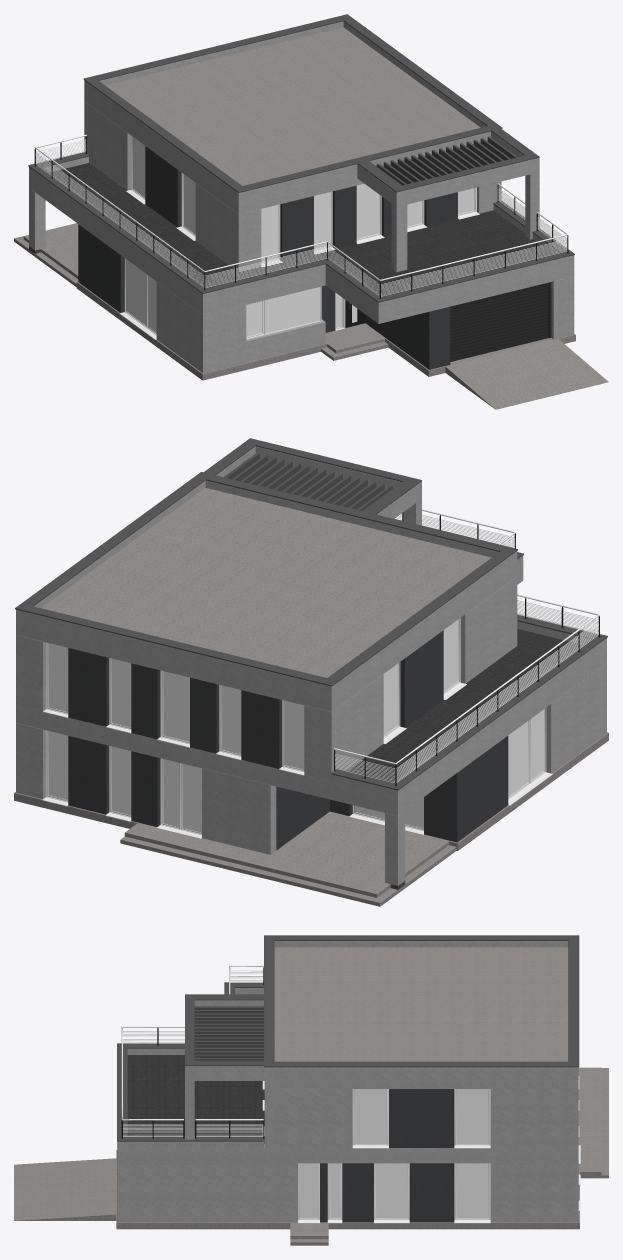
The model's file is smartnest-3bhk-villa.glb.
3 renders of one model, top to bottom at view 1: azimuth 30°, elevation 25°; view 2: azimuth 150°, elevation 25°; view 3: azimuth 270°, elevation 25°, orthographic. The views are drawn at different scales.
Parts seen in each view (by area): view 1: roof, floor, wall.001, fence, wall.004, wall, wall.003, wall.005, metal.003, basement.002, wall.002, garagedoor.001 (+13 smaller); view 2: roof, wall.004, wall.001, basement, wall.005, wall.002, wall.003, wall, metal.003, floor, fence, metal.002 (+14 smaller); view 3: roof, wall, wall.003, wall.001, wall.004, floor, metal.003, basement.002, wall.002, Window.040, basement, wall.005 (+10 smaller).
Boxes of the visible parts, x1,y1,x2,y2 form: roof: (106,27,480,185); floor: (50,163,552,295); wall.001: (29,156,574,323); fence: (34,134,568,298); wall.004: (84,21,490,214); wall: (156,276,574,373); wall.003: (84,101,501,271); wall.005: (145,146,457,261); metal.003: (83,14,502,192); basement.002: (445,339,608,409); wall.002: (78,224,450,369); garagedoor.001: (450,282,551,361); roof: (41,488,491,677); wall.004: (16,480,517,711); wall.001: (16,555,606,815); basement: (120,812,456,906); wall.005: (68,630,443,768); wall.002: (68,736,508,850); wall.003: (16,576,517,781); wall: (16,663,606,854); metal.003: (15,472,517,686); floor: (347,629,581,781); fence: (334,509,600,785); metal.002: (224,452,392,510); roof: (274,947,568,1061); wall: (117,1163,578,1222); wall.003: (264,1089,578,1147); wall.001: (117,988,578,1163); wall.004: (264,941,578,1088); floor: (127,1055,264,1143); metal.003: (264,935,579,1067); basement.002: (14,1158,116,1220); wall.002: (320,1163,454,1222); Window.040: (352,1089,490,1148); basement: (290,1067,608,1245); wall.005: (389,1089,454,1147).
Size of the model in its own units: 17.16 by 7.45 by 24.65.
Materials: 16 (7 with a texture image).
